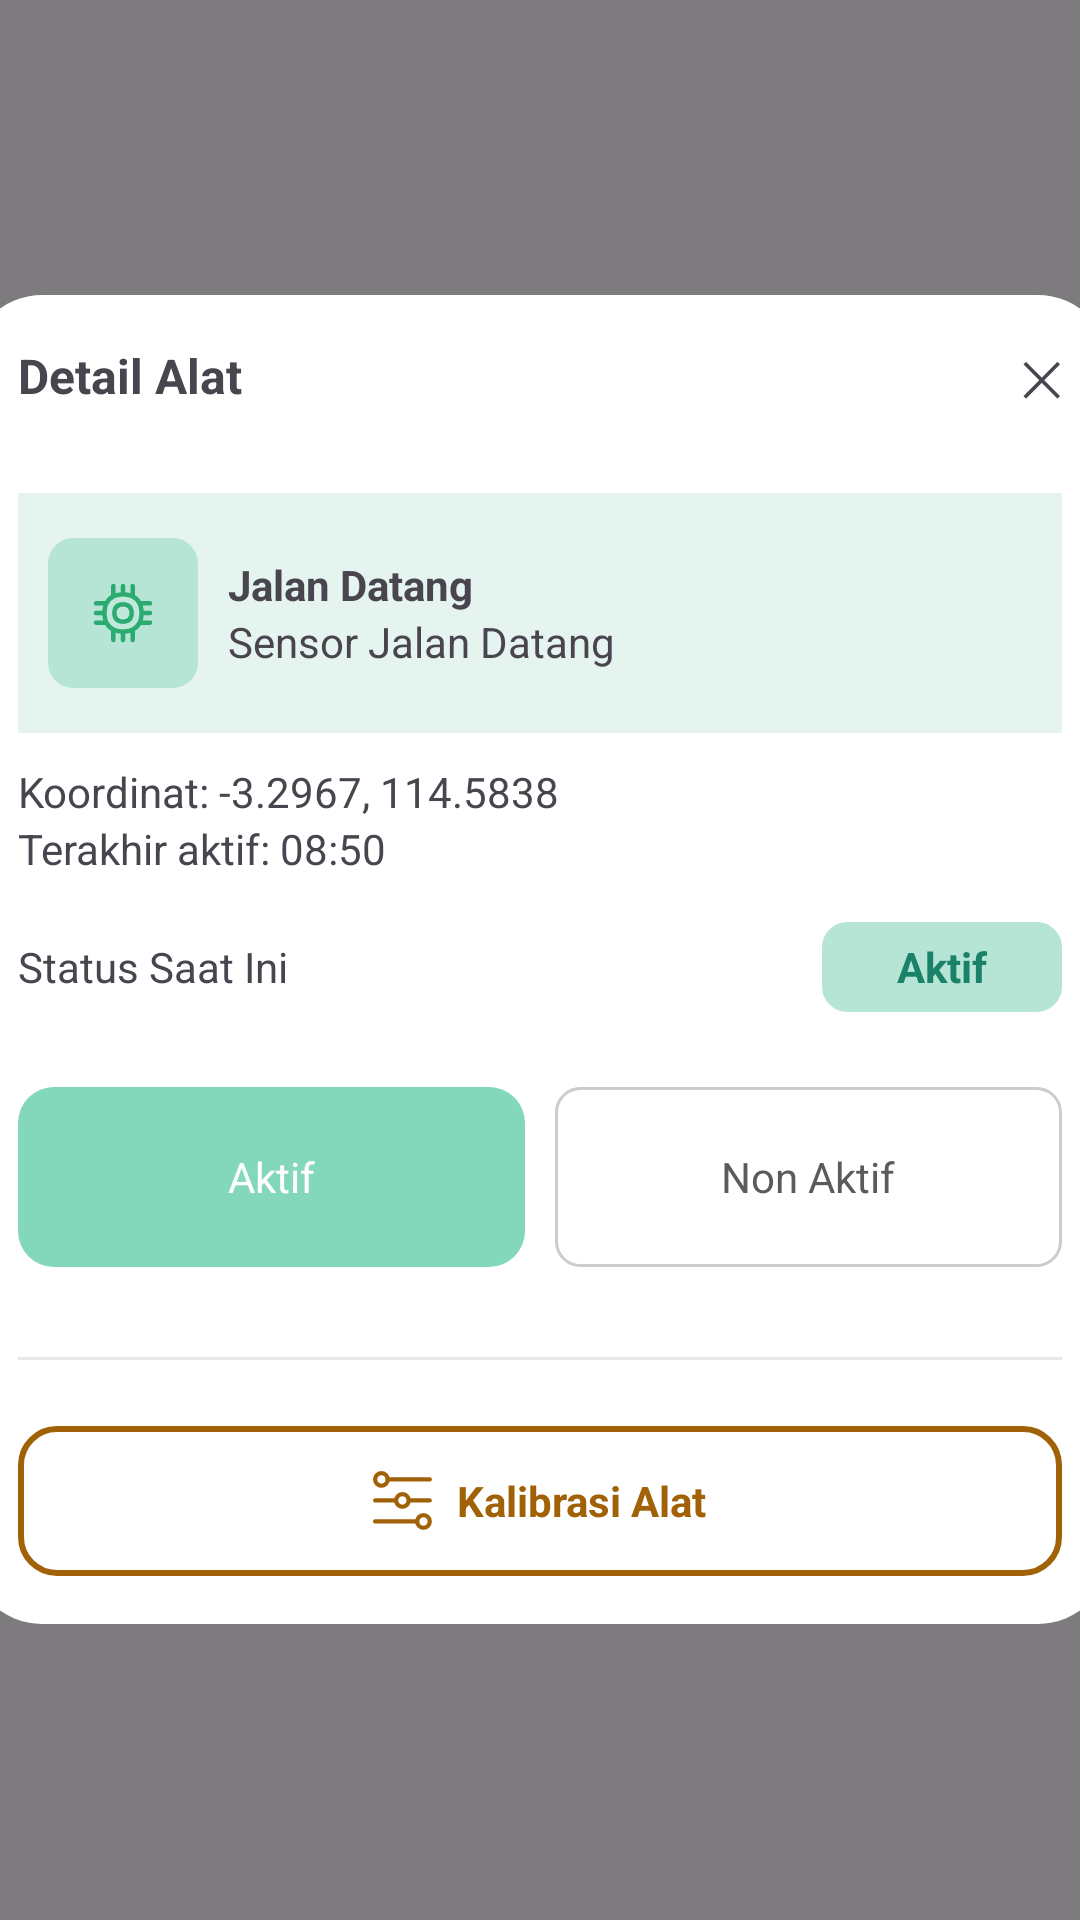

Where icons sit on this 1080 x 1920 app screen, as (x1, y1, x2, y2):
cpu: (93, 583, 153, 643)
